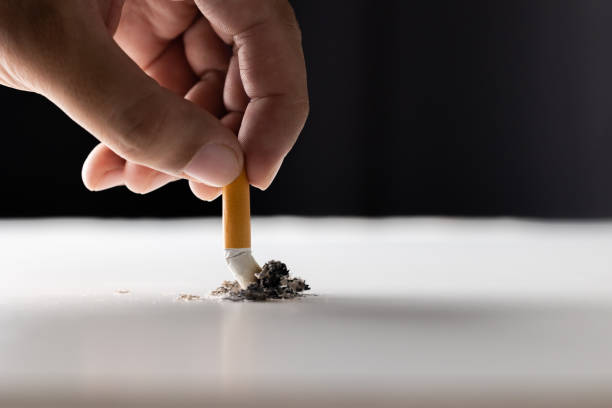cigarette: (221, 163, 267, 298)
